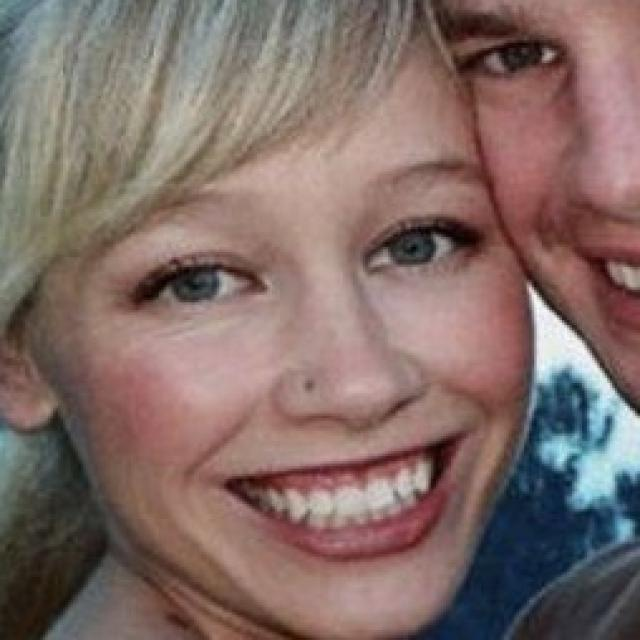Normal: (27, 18, 539, 637)
